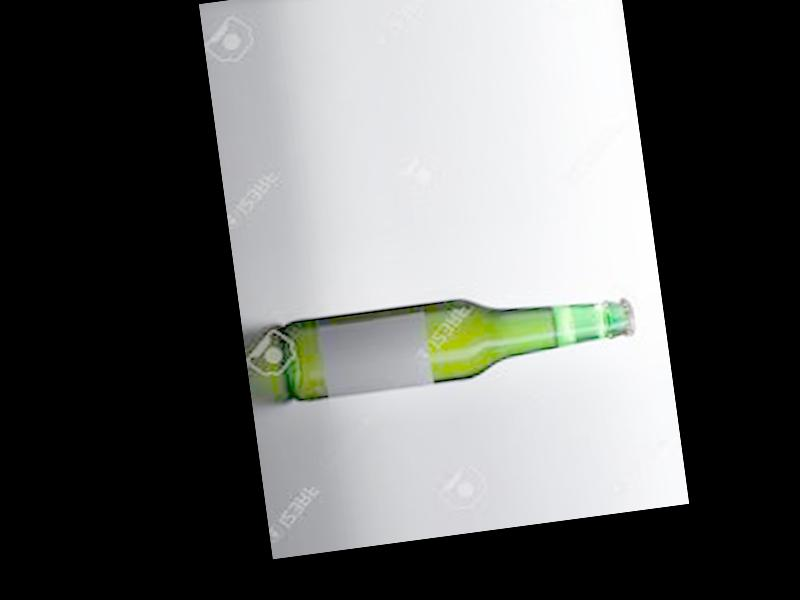Beer: (279, 275, 639, 404)
